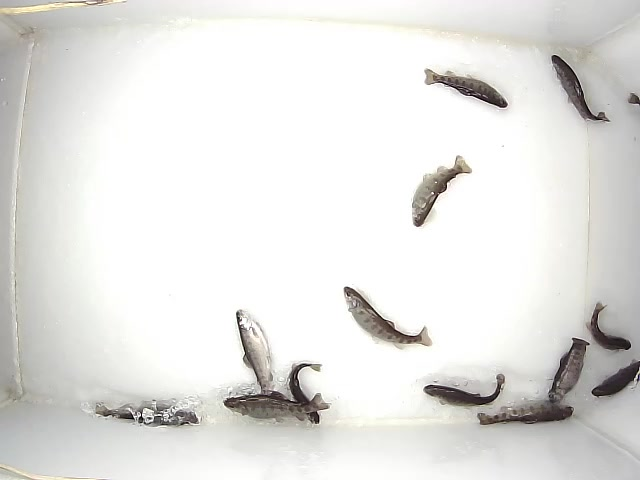fish: (344, 287, 432, 350), (412, 155, 472, 227), (551, 55, 611, 123), (236, 309, 273, 412), (424, 68, 508, 108), (94, 399, 202, 427), (223, 392, 331, 419), (548, 338, 590, 405), (423, 373, 505, 405), (477, 401, 574, 425), (586, 302, 631, 351), (289, 364, 324, 424), (591, 358, 640, 398)
